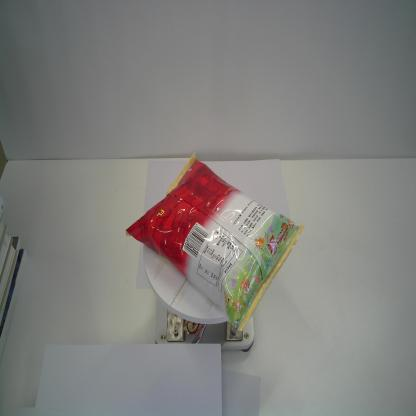Puffed Food: (121, 150, 307, 337)
